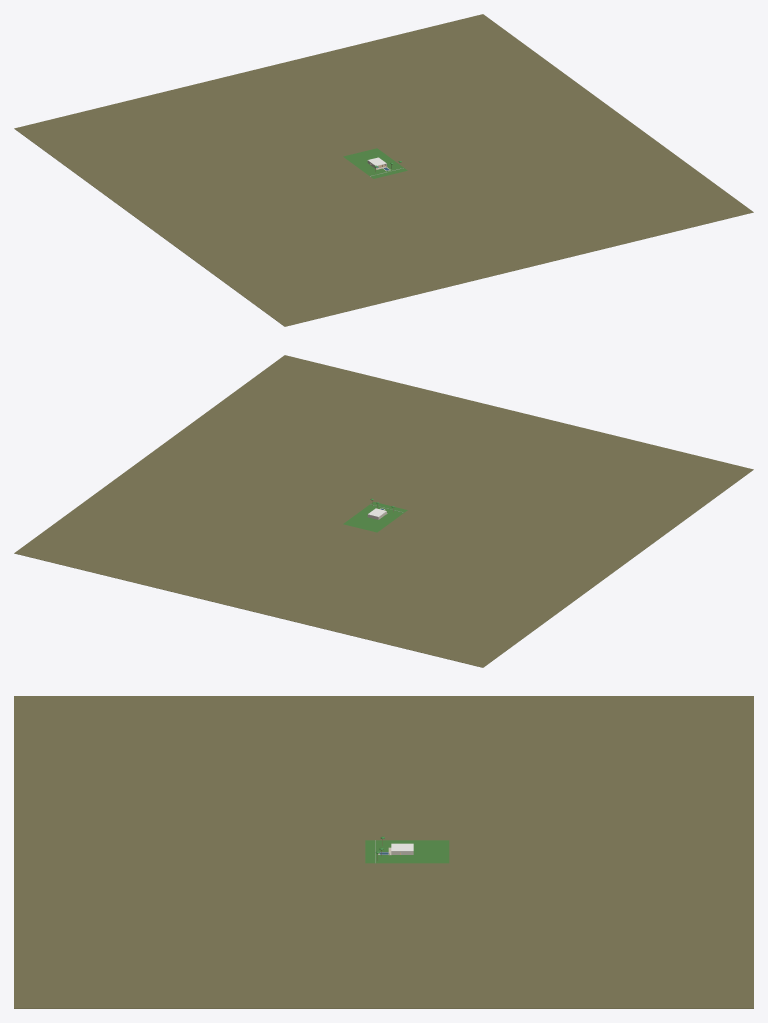
File: room-gallery.glb
3 renders of one model, top to bottom at view 1: azimuth 30°, elevation 25°; view 2: azimuth 150°, elevation 25°; view 3: azimuth 270°, elevation 25°, orthographic. The views are drawn at different scales.
Visible parts, largest first — view 1: exterior|MI_floodwater, exterior|MI_lawn; view 2: exterior|MI_floodwater, exterior|MI_lawn; view 3: exterior|MI_floodwater, exterior|MI_lawn.
Part boxes in pixels (box(x1,y1,x2,y2)): exterior|MI_floodwater: box(14, 14, 753, 326); exterior|MI_lawn: box(343, 148, 407, 178); exterior|MI_floodwater: box(14, 355, 753, 667); exterior|MI_lawn: box(343, 501, 407, 532); exterior|MI_floodwater: box(14, 696, 753, 1008); exterior|MI_lawn: box(365, 840, 449, 863).
Size of the model in its own units: 600 by 10.03 by 600.
